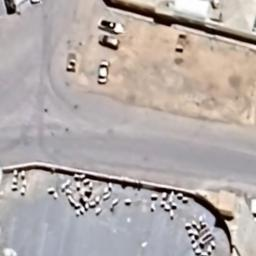sedan: (98, 16, 126, 36), (98, 58, 111, 86)
van: (97, 34, 121, 52)
